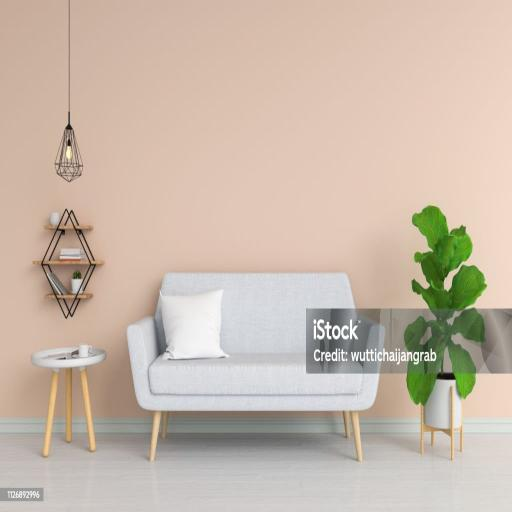back_cushion: (161, 273, 358, 371)
base: (156, 395, 366, 413)
left_arm: (358, 317, 384, 409)
legs: (148, 411, 160, 461), (352, 411, 362, 461), (162, 413, 166, 439), (346, 425, 350, 438)
right_arm: (127, 316, 158, 409)
seat_cushion: (150, 353, 362, 394)
stallion-sofa2: (127, 273, 384, 461)
